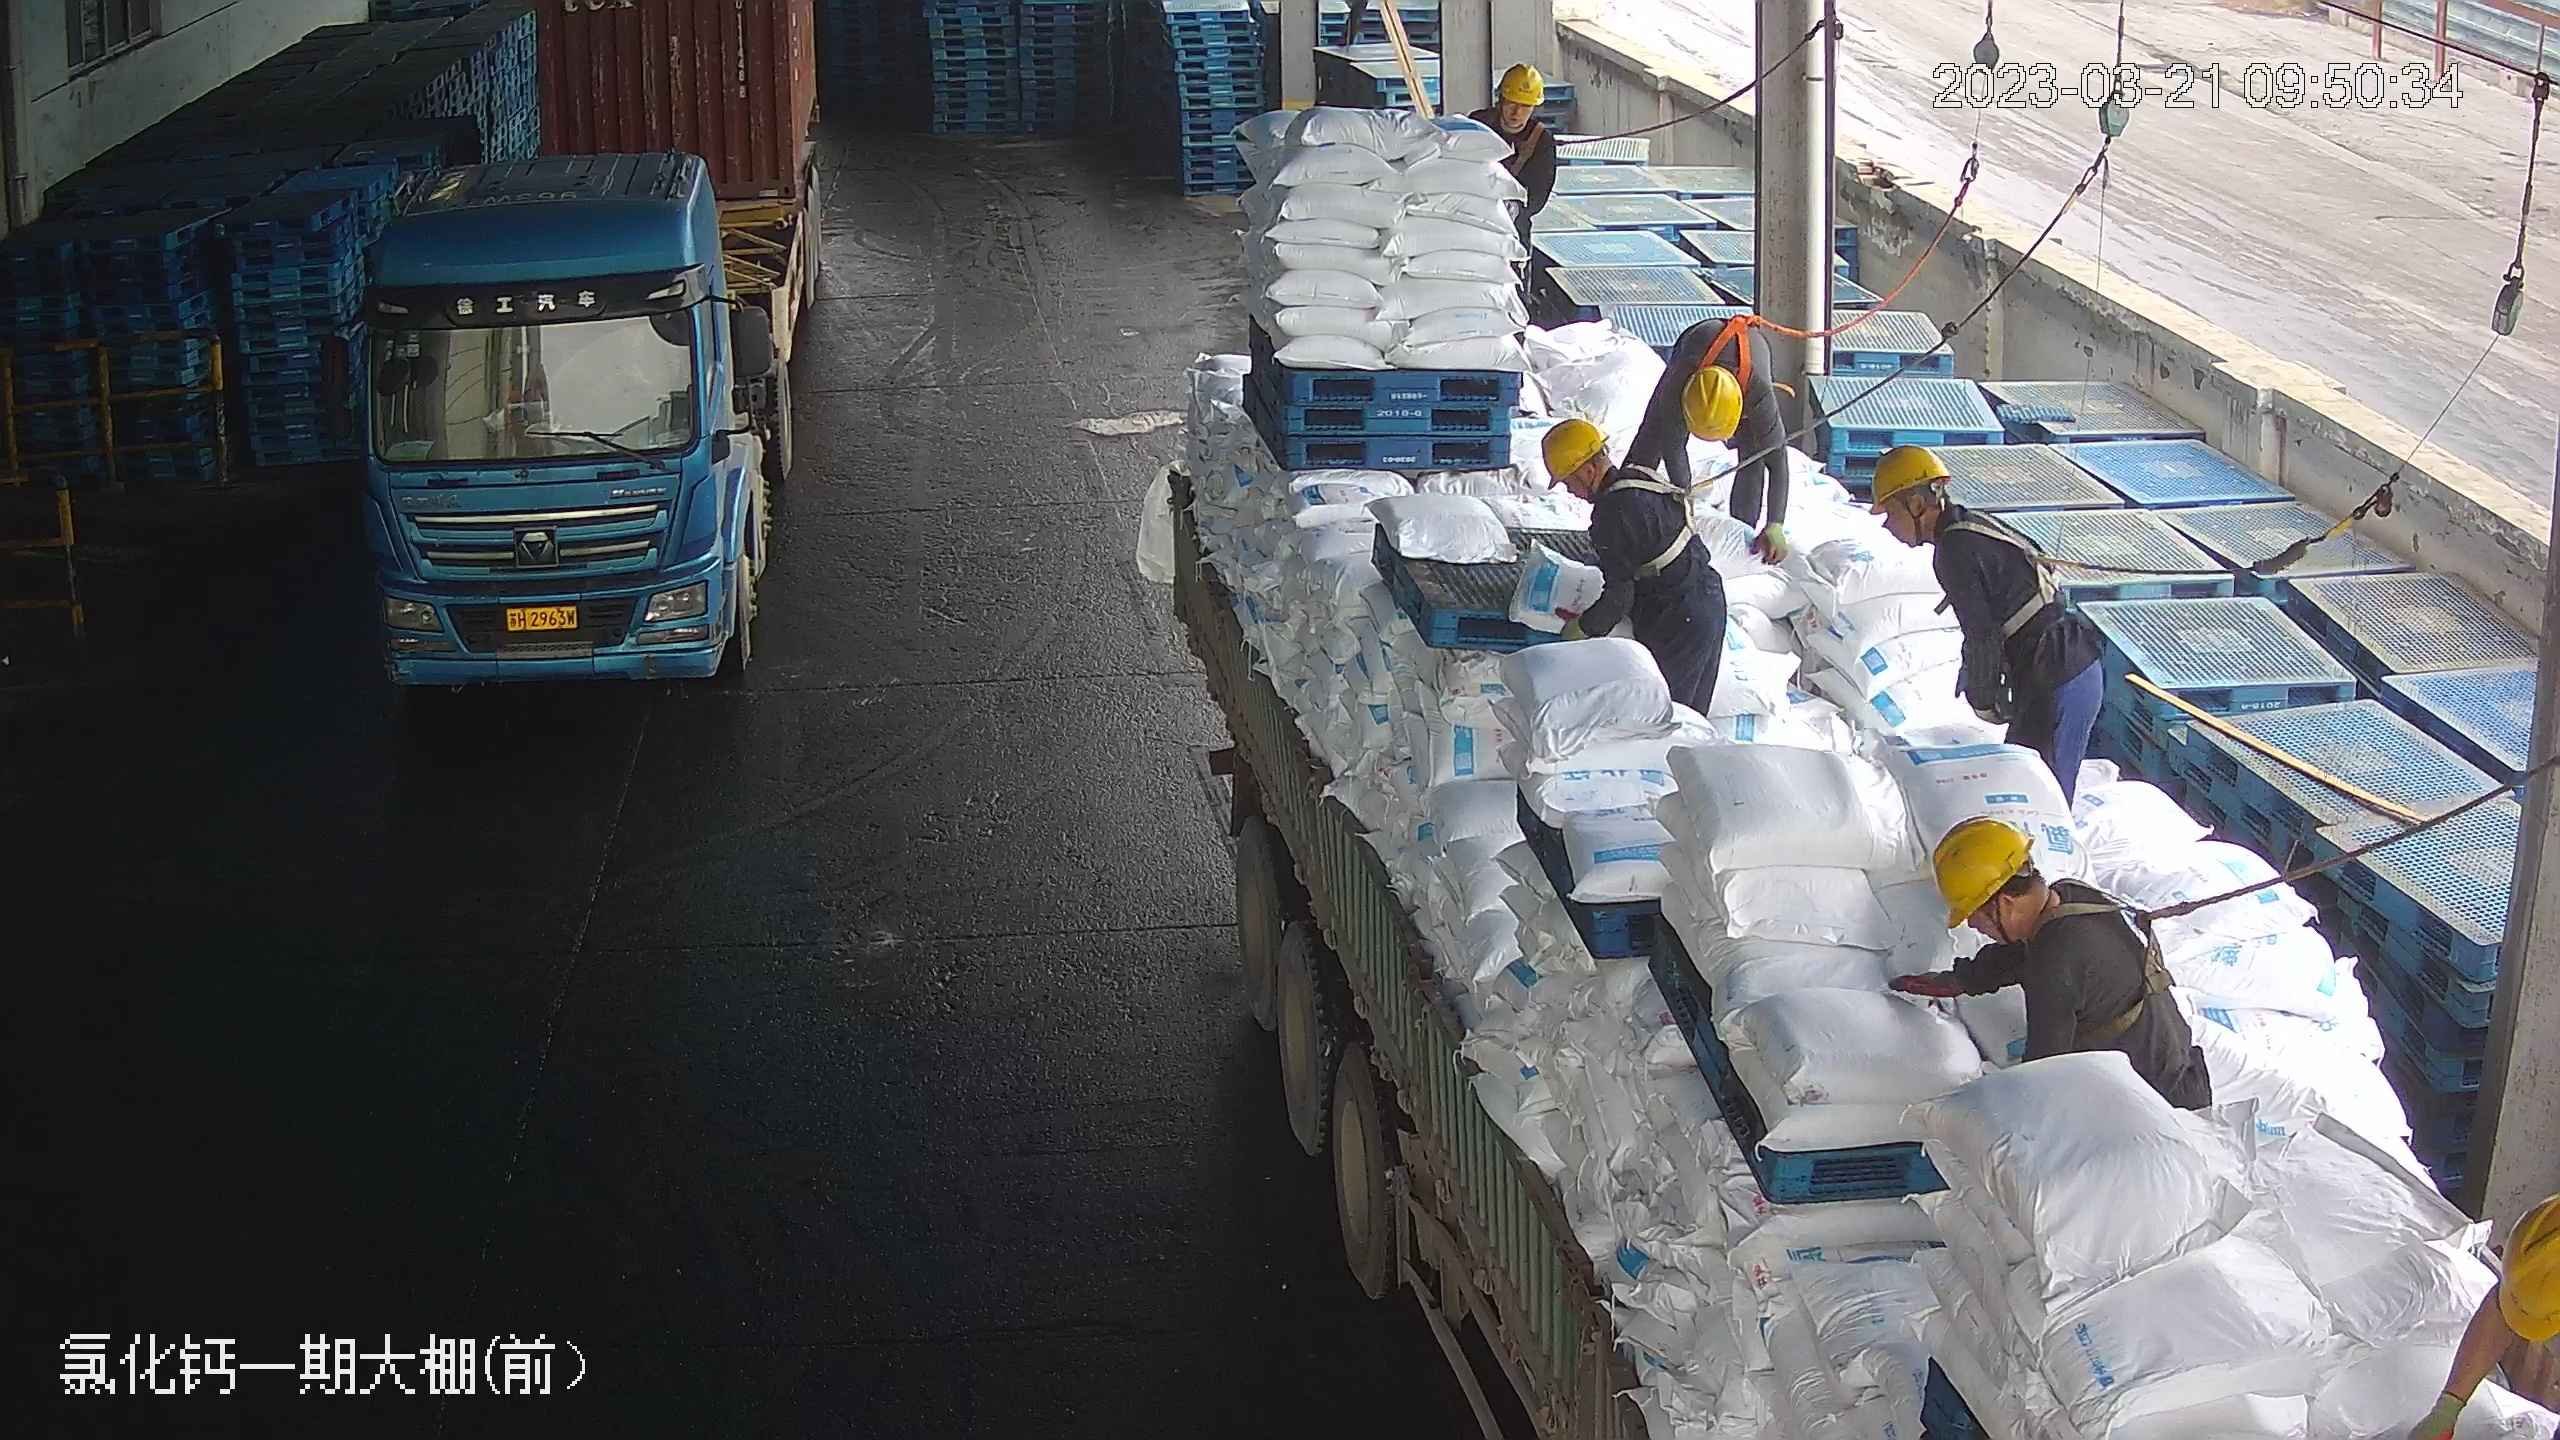belt: (1876, 446, 2109, 811), (2044, 876, 2189, 1042), (1953, 506, 2076, 635), (1593, 457, 1715, 573), (2497, 1290, 2560, 1403), (1696, 301, 1771, 390), (1493, 108, 1551, 171)
head: (1922, 811, 2159, 993), (1872, 442, 2028, 575), (1538, 416, 1681, 531), (1663, 317, 1765, 455), (1472, 61, 1558, 152)
helmet: (1538, 414, 1679, 530), (1928, 811, 2034, 930), (2499, 1199, 2560, 1344), (1865, 442, 1952, 509), (1538, 415, 1611, 485), (1680, 360, 1742, 439), (1493, 59, 1545, 103)
people: (1871, 443, 2109, 812), (1533, 412, 1739, 729), (1613, 317, 1805, 567), (1469, 64, 1564, 342)
truck: (1183, 105, 2509, 1440), (327, 1, 837, 690)
